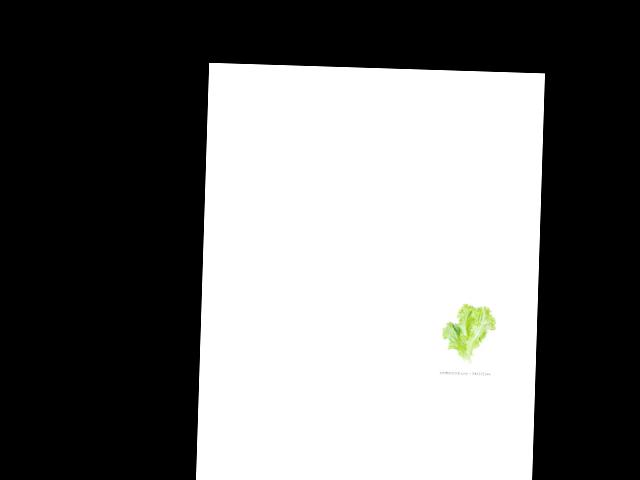lettuce: (439, 301, 496, 368)
